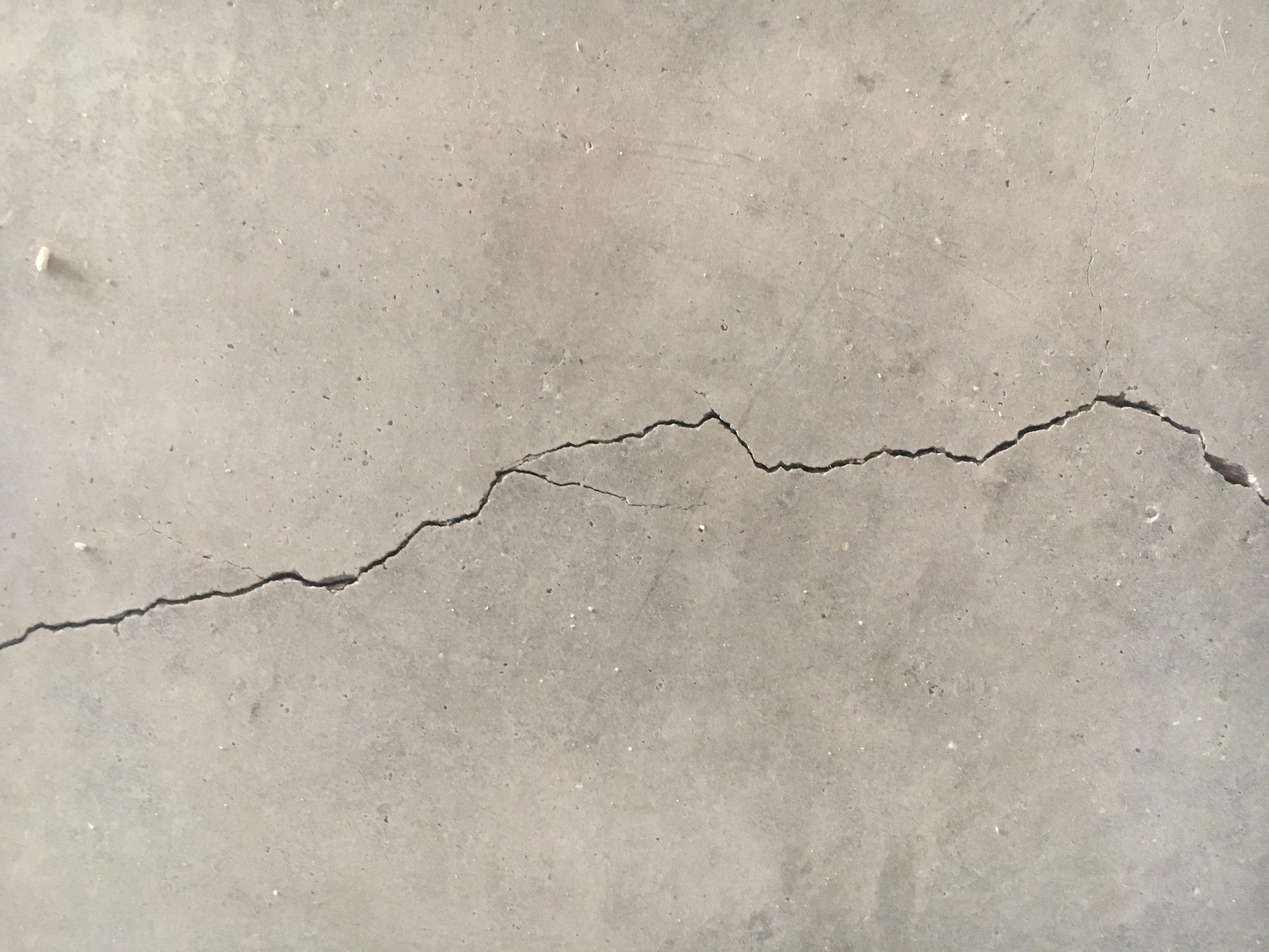Horizontal Settlement Crack: (3, 389, 1266, 653)
